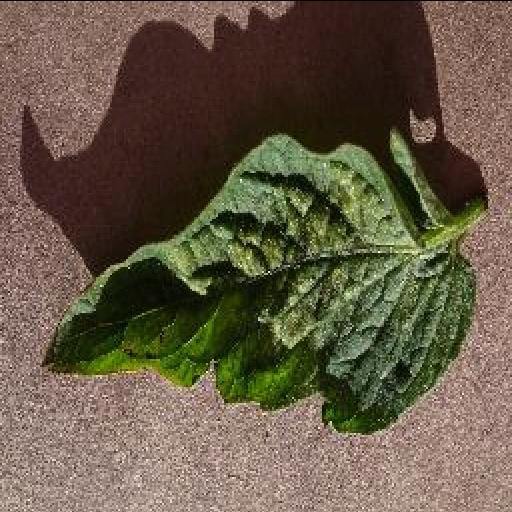disease_tomato: (40, 132, 478, 433)
